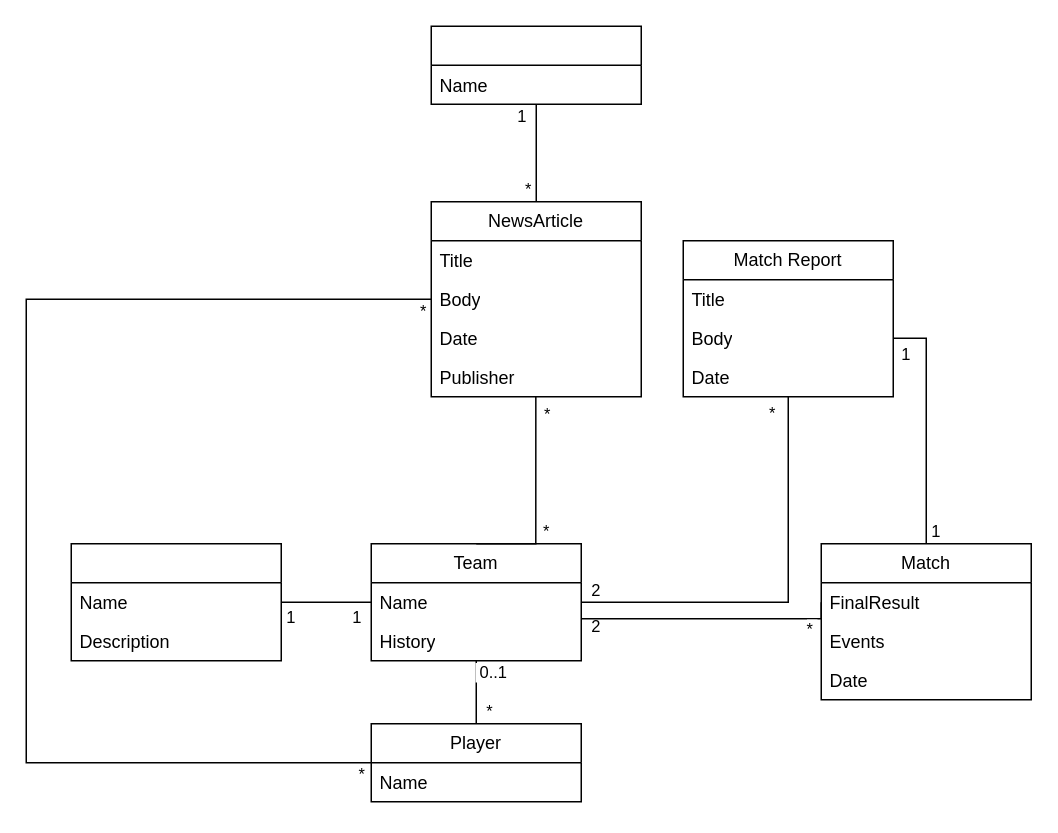
Image size: 1058x833. Some labels were removed from this diagram. The shapes that lost their labels are listed below. From the top down, each one's box as (x1, y1, x2, y2) in pixels, then its label:
(430, 25, 641, 104): NewsSite
(70, 542, 281, 661): WikipediaInformation
